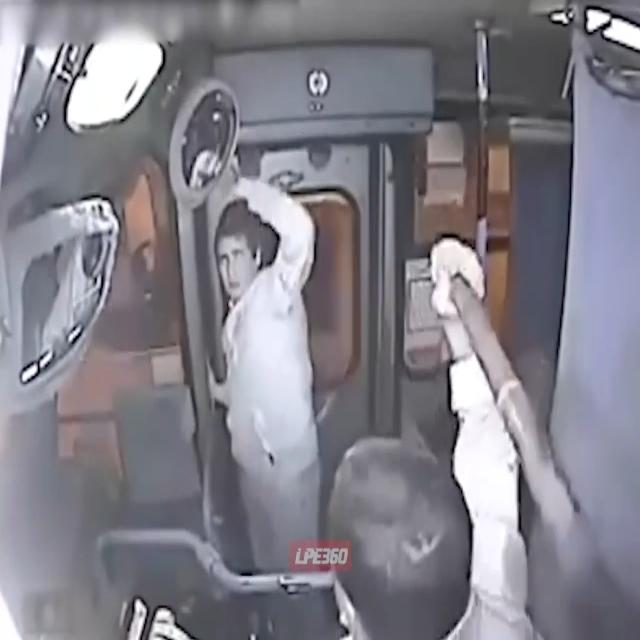fight: (206, 164, 524, 640)
